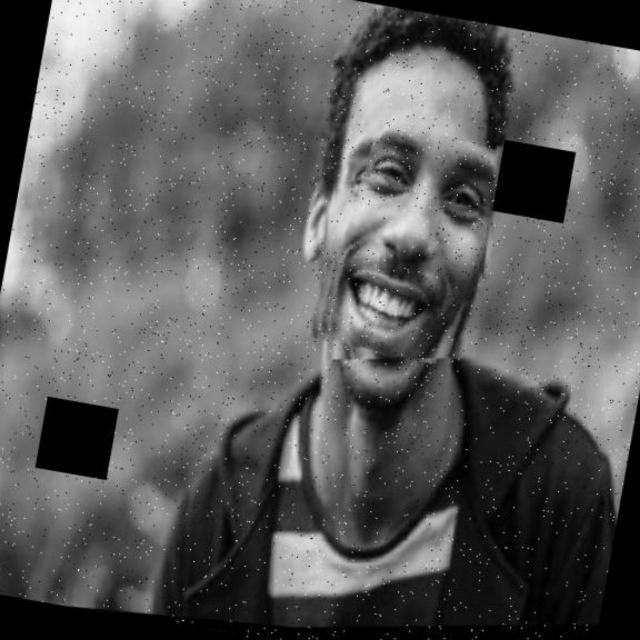Happy: (307, 43, 502, 415)
